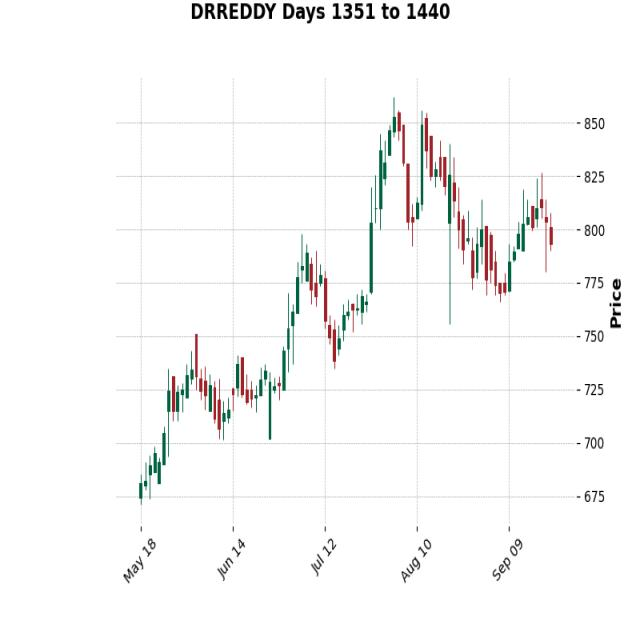Descending Triangle: (367, 88, 512, 335)
